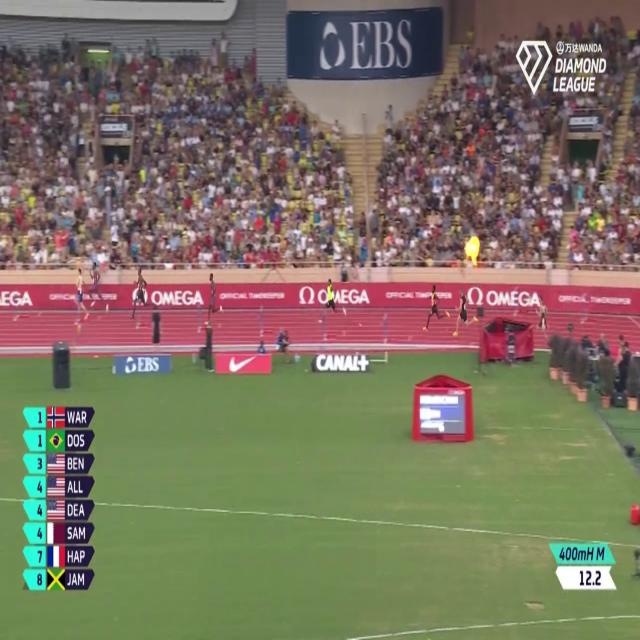athlete: (421, 284, 451, 346), (316, 271, 348, 328), (130, 261, 154, 329), (450, 284, 477, 344), (86, 260, 111, 323), (204, 270, 225, 332), (527, 284, 547, 346), (74, 266, 88, 330)
hurdle: (9, 282, 26, 329), (255, 296, 271, 343), (377, 304, 392, 350)
